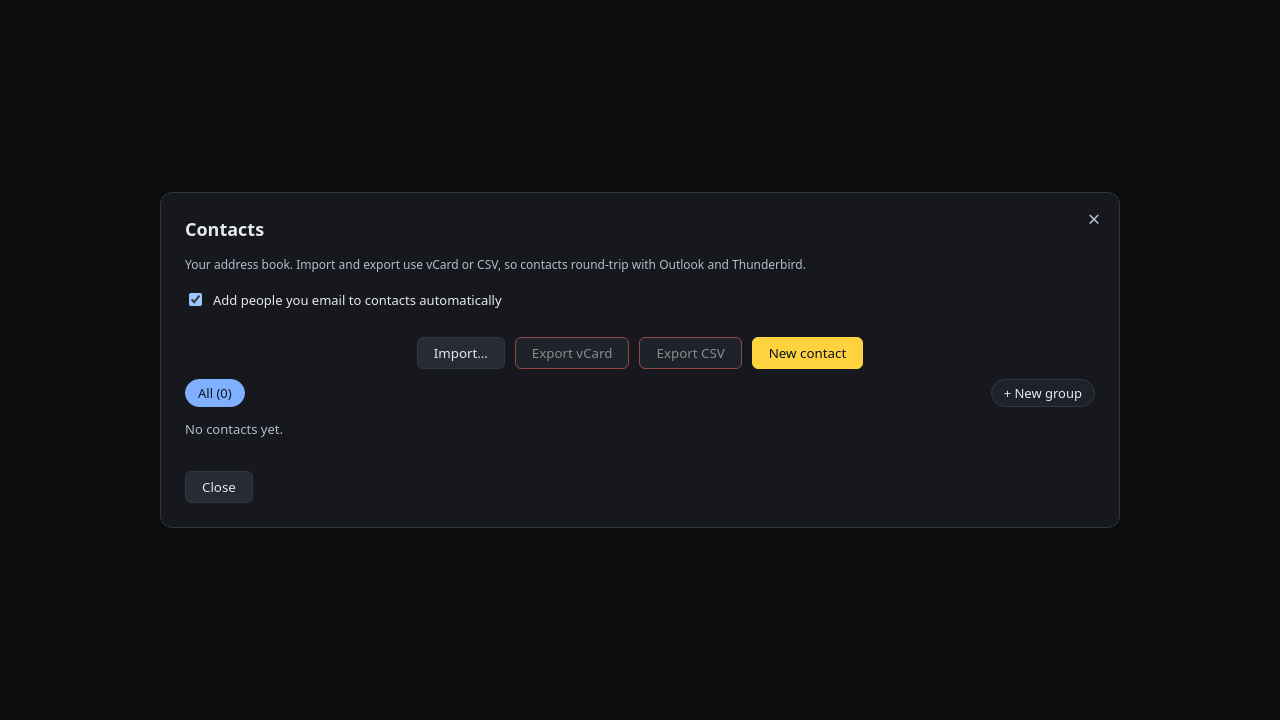
Scenario: says when a re-import changed nothing new, rather than implying every row was added
The width and height of the screenshot is (1280, 720).
Click the button "Import…": (461, 353) x1=417 y1=337 x2=505 y2=369
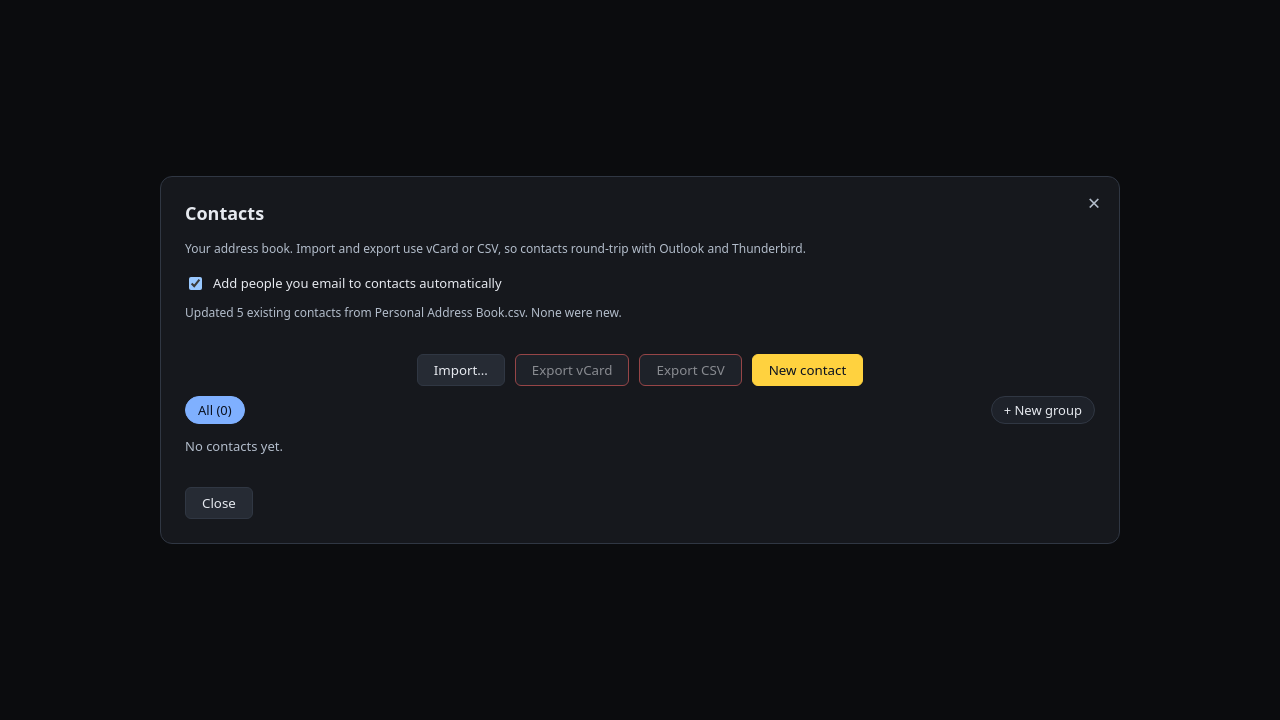
Expected: the text "Updated 5 existing contacts from Personal Address Book.csv. None were new." is shown, x1=185 y1=304 x2=622 y2=321
